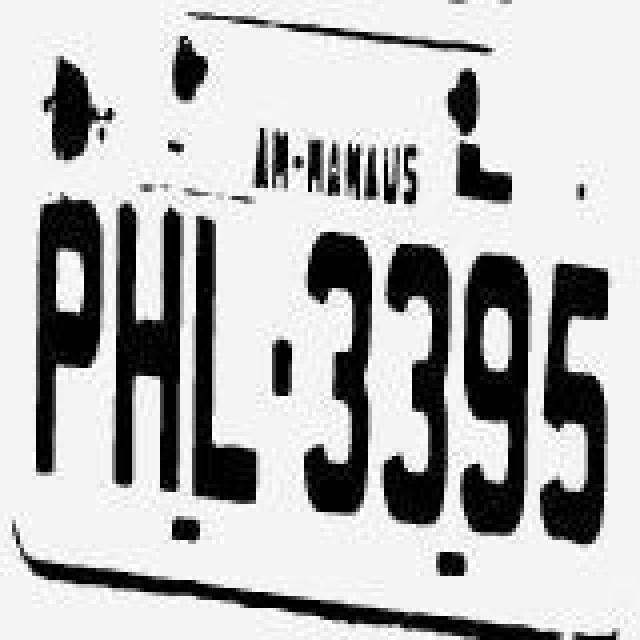3: (298, 222, 374, 522), (378, 240, 454, 528)
5: (536, 256, 624, 560)
9: (454, 250, 538, 542)
H: (108, 206, 188, 498)
L: (184, 212, 264, 508)
P: (22, 192, 106, 480)
